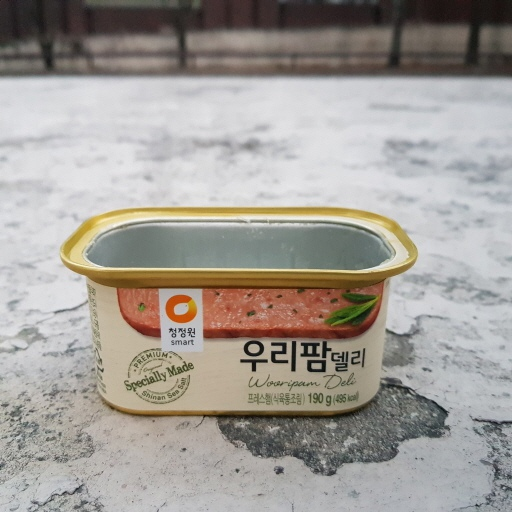Metal_2: (61, 206, 420, 417)
